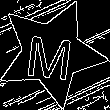M_N: (26, 25, 77, 81)
